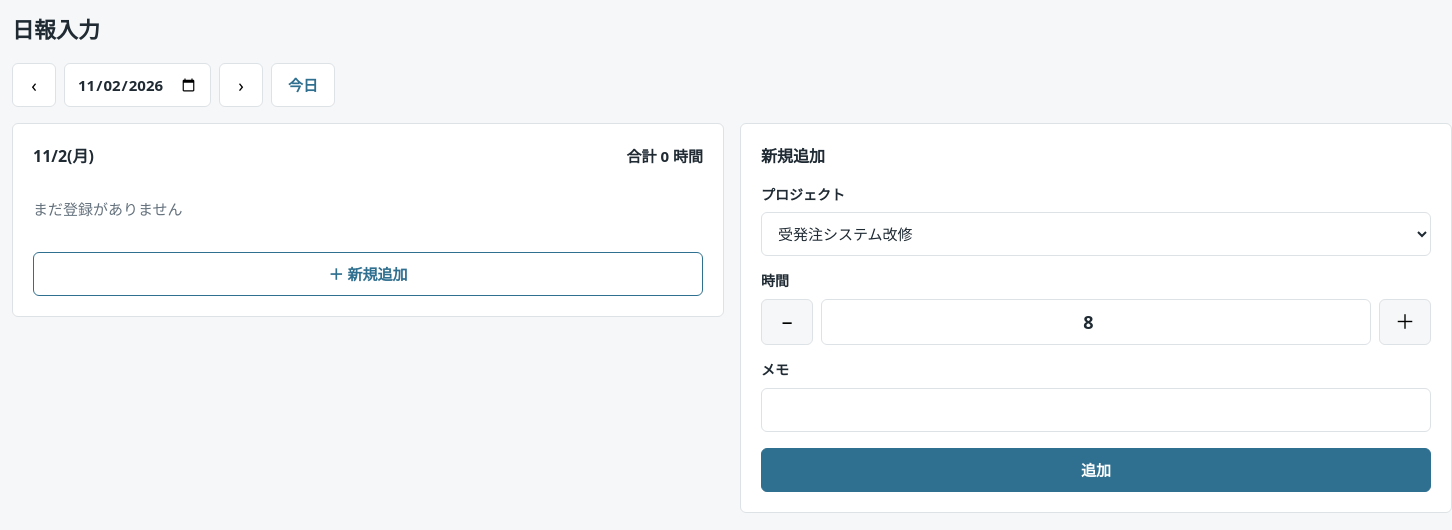
Test case: 日付 › 「前の日」で1日戻れる
Click the button named "前の日" at coordinates (34, 85), box [12,63,56,107]
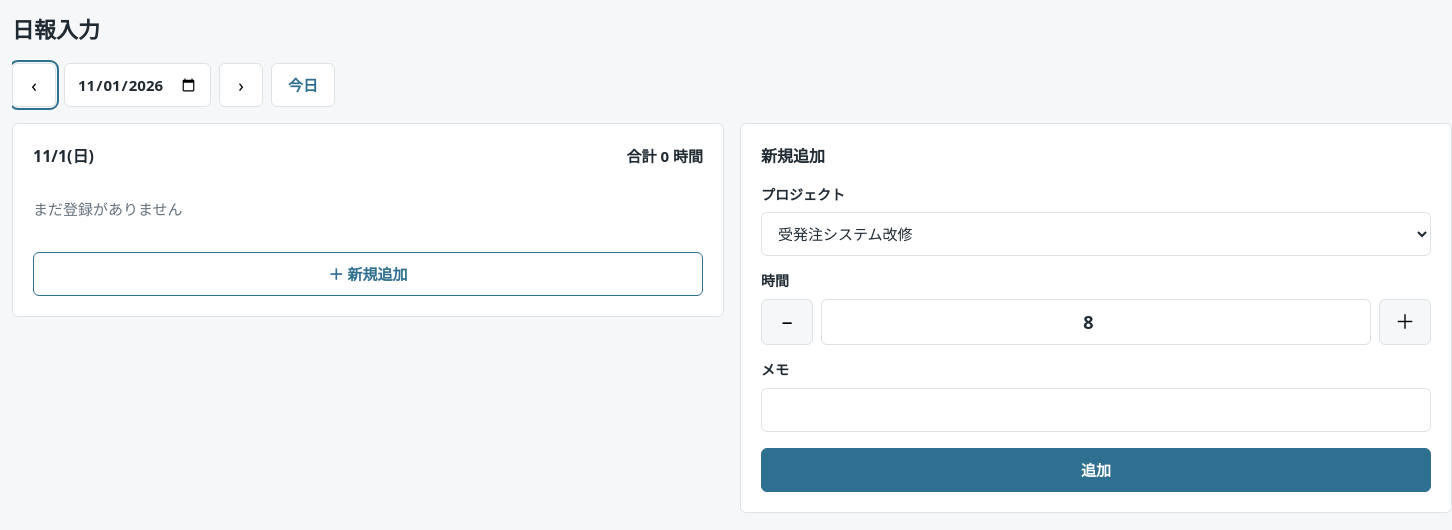
Result: the date field named "日付" holds "2026-11-01" at [64,63,211,107]
